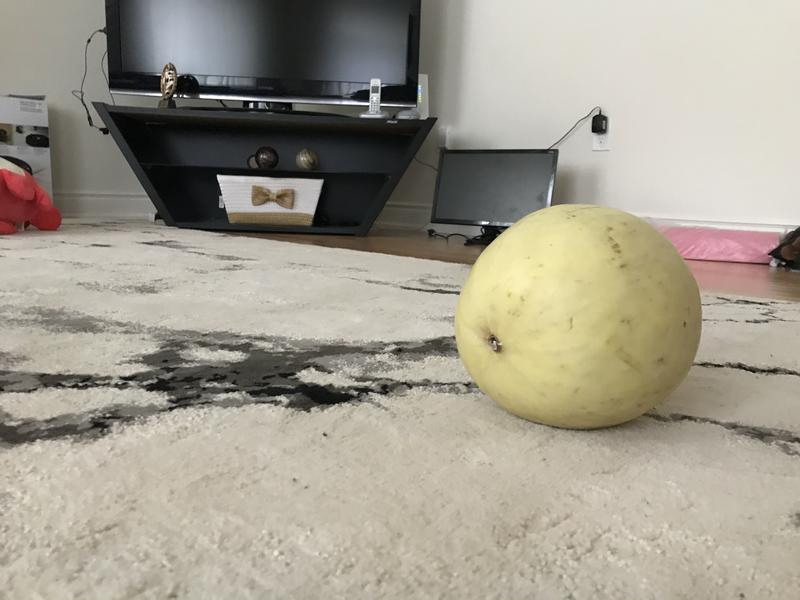honeydew: (445, 191, 714, 452)
